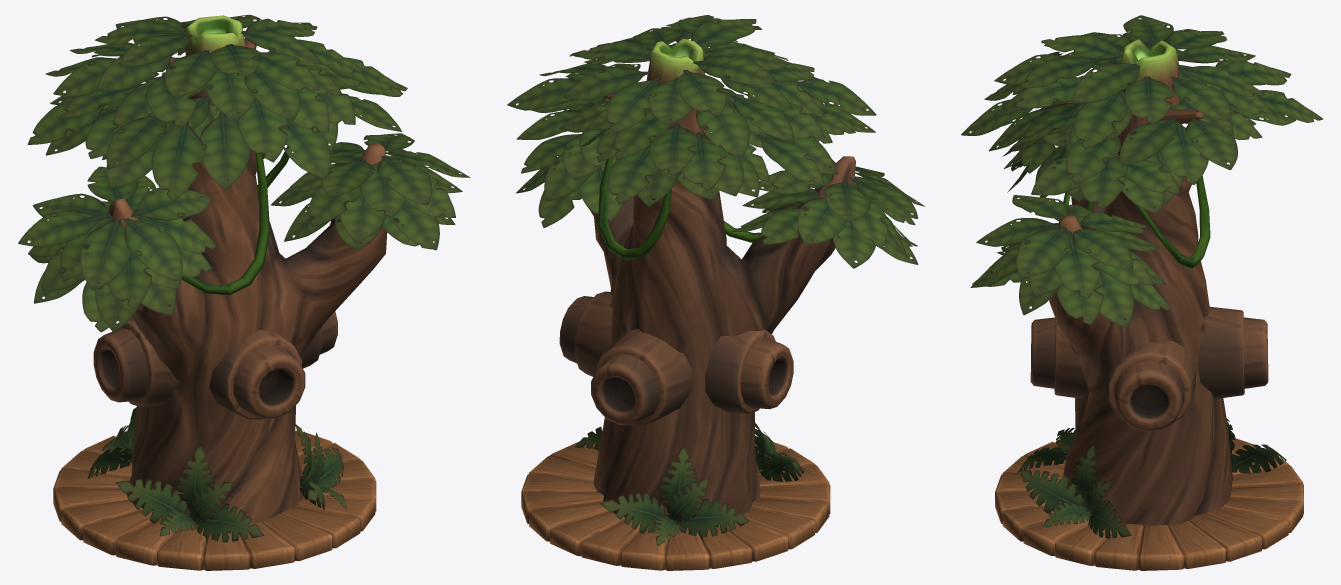
File: SM_TowerDefense_Nature_Lv1.fbx
The picture shows the model from 3 angles, left to right: view 1: azimuth 30°, elevation 25°; view 2: azimuth 150°, elevation 25°; view 3: azimuth 270°, elevation 25°; orthographic projection. The views are drawn at different scales.
Visible parts, largest first — view 1: SM_TowerDefense_Nature_Lv1; view 2: SM_TowerDefense_Nature_Lv1; view 3: SM_TowerDefense_Nature_Lv1.
Part boxes in pixels (x1,y1,x2,y2): SM_TowerDefense_Nature_Lv1: (18,14,470,570); SM_TowerDefense_Nature_Lv1: (507,15,924,570); SM_TowerDefense_Nature_Lv1: (961,15,1322,570).
Size of the model in its own units: 1095 by 1228 by 859.
